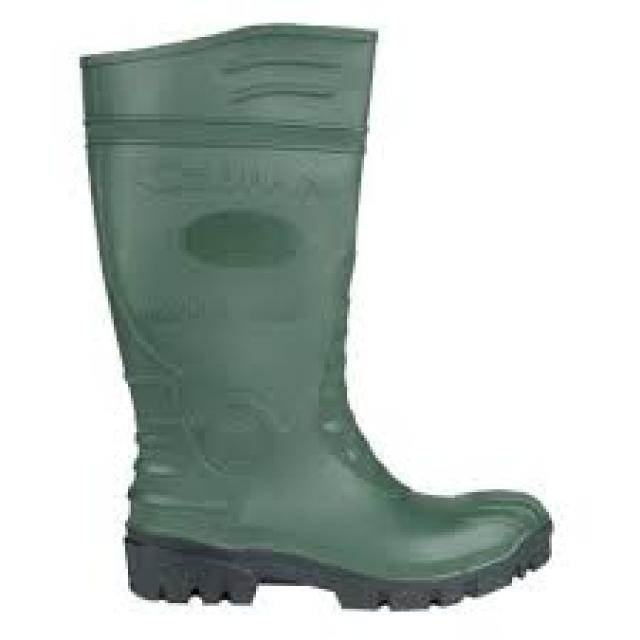shoes: (84, 25, 551, 608)
